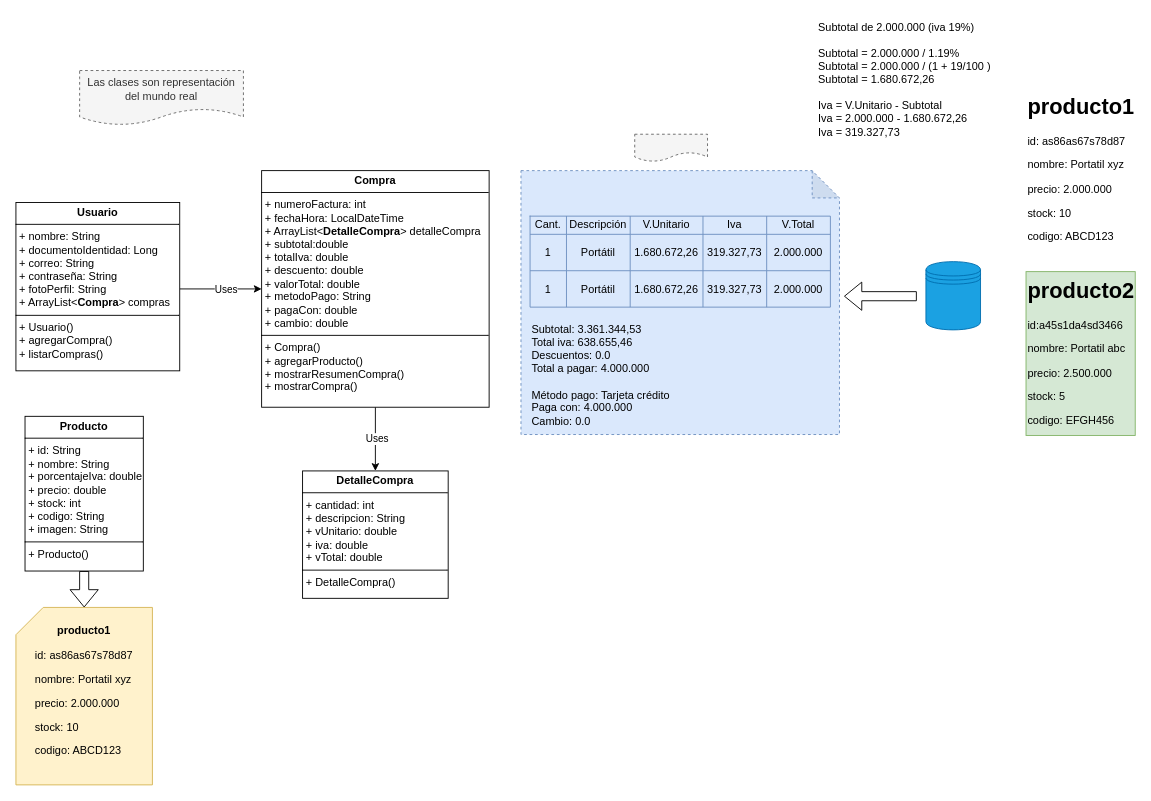
Some shapes in this 1151 by 801 pixel diagram are drawn without their labels. The box of each missing label's shape, as (x1, y1, x2, y2) in pixels:
Archivo .jpg: (634, 133, 708, 162)
Base de datos: (925, 261, 981, 330)
Factura de venta No. 000123: (520, 170, 839, 435)
